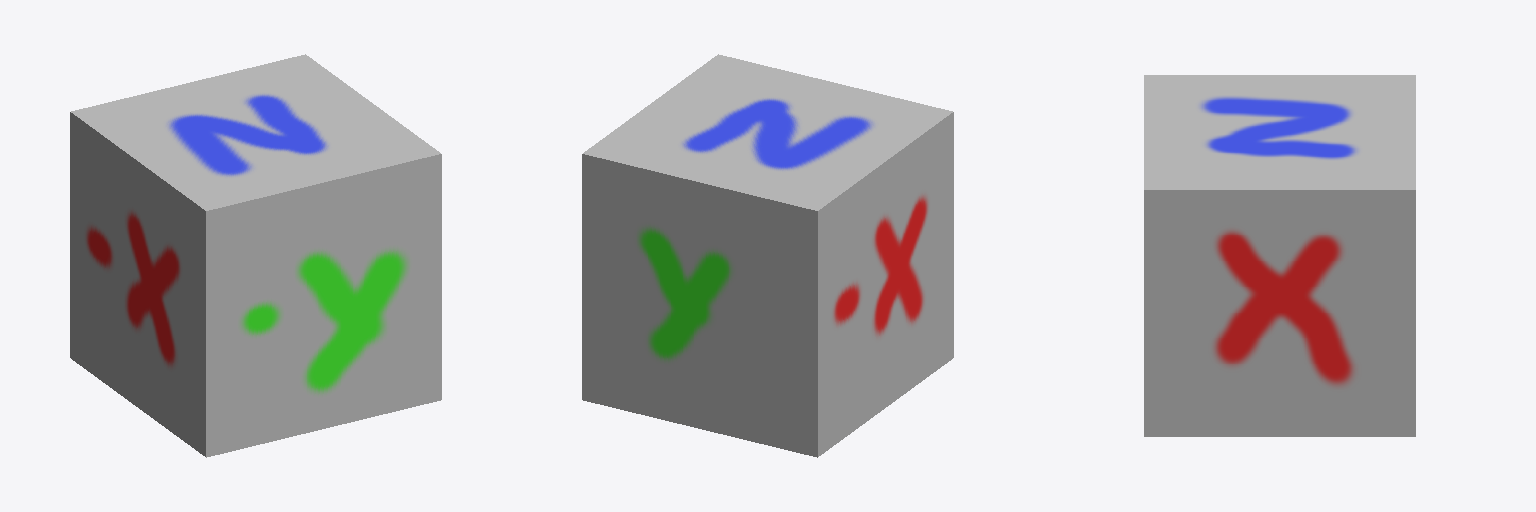
The picture shows the model from 3 angles: view 1: azimuth 30°, elevation 25°; view 2: azimuth 150°, elevation 25°; view 3: azimuth 270°, elevation 25°; orthographic projection.
Visible parts, largest first — view 1: Cube; view 2: Cube; view 3: Cube.
Part boxes in pixels (x1,y1,x2,y2): Cube: (70,54,441,457); Cube: (582,54,953,457); Cube: (1144,75,1415,436).
Bounding box in the file's own units: 2 × 2 × 2.
1 materials, 1 textured.